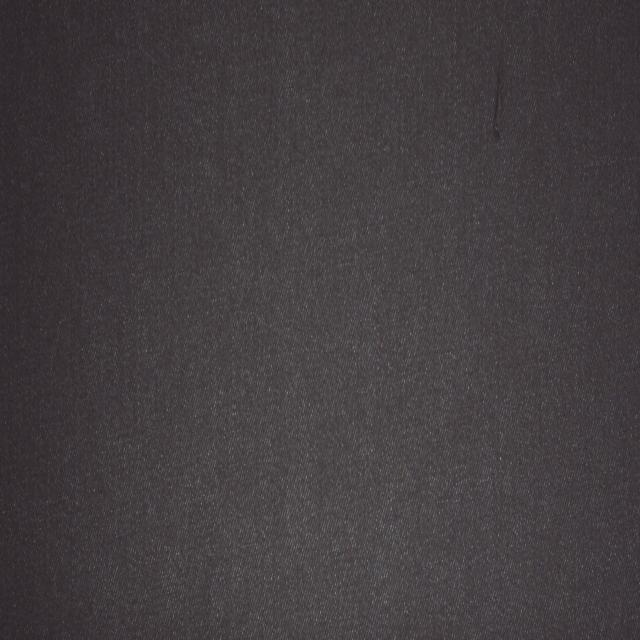Knot: (495, 62, 506, 147)
